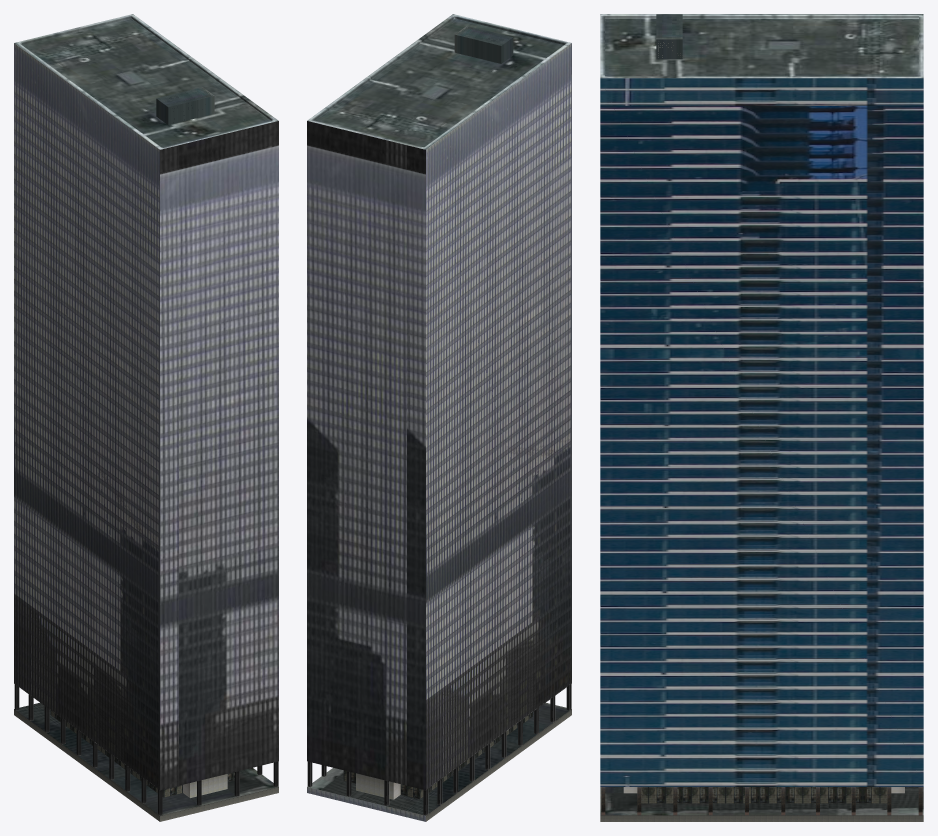
Rendered from IBM-Building.fbx.
The picture shows the model from 3 angles, left to right: view 1: azimuth 30°, elevation 25°; view 2: azimuth 150°, elevation 25°; view 3: azimuth 270°, elevation 25°; orthographic projection. The views are drawn at different scales.
Parts seen in each view (by area): view 1: Model; view 2: Model; view 3: Model.
Part boxes in pixels (bbox=[...]): Model: bbox=[14, 14, 278, 821]; Model: bbox=[307, 14, 571, 821]; Model: bbox=[600, 14, 923, 821].
Size of what is drawn, in the model's own units: 1544 by 8540 by 3283.
